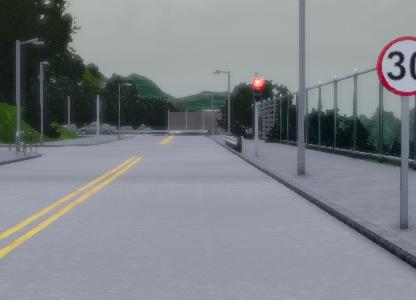Speed_30: (377, 35, 416, 97)
